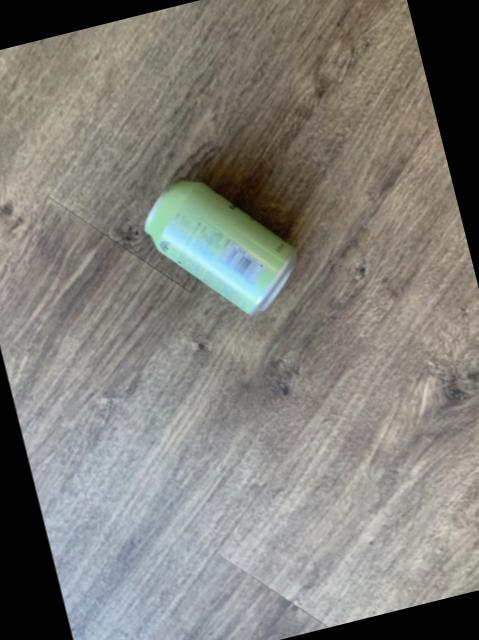metal: (143, 179, 293, 313)
